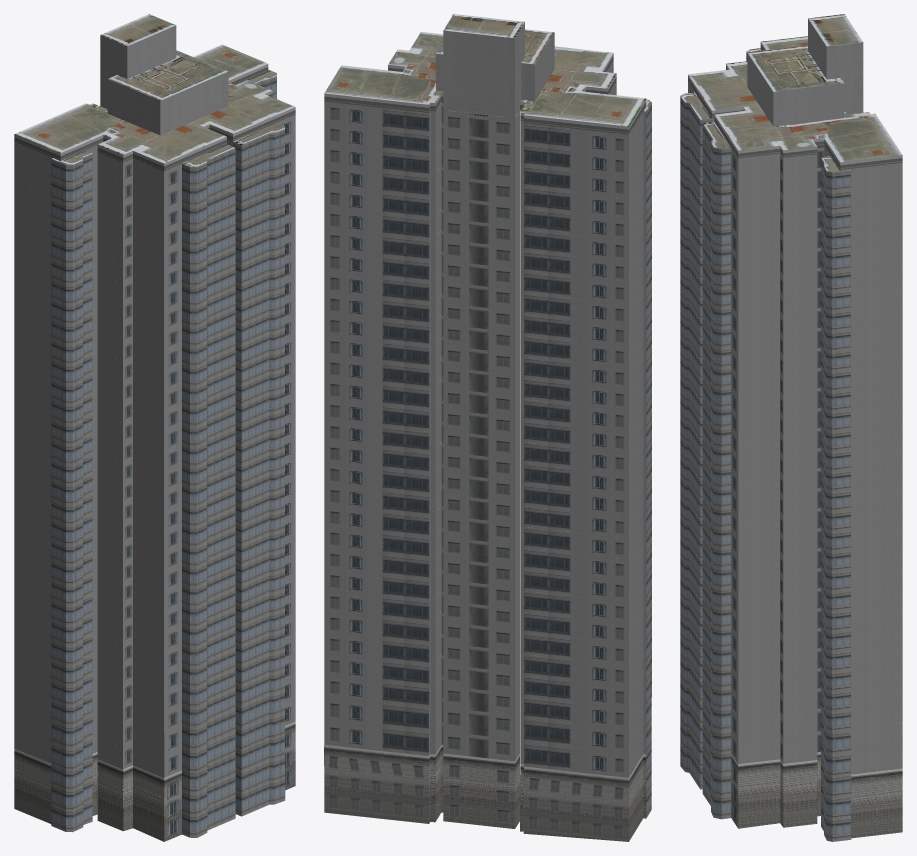
The picture shows the model from 3 angles, left to right: view 1: azimuth 30°, elevation 25°; view 2: azimuth 150°, elevation 25°; view 3: azimuth 270°, elevation 25°; orthographic projection. The views are drawn at different scales.
Parts seen in each view (by area): view 1: HPWLKZ_ruijinnanlu185nong2hao_louding, HPWLKZ_ruijinnanlu185nong2hao_1F_102, HPWLKZ_ruijinnanlu185nong2hao_4F_402, HPWLKZ_ruijinnanlu185nong2hao_5F_502, HPWLKZ_ruijinnanlu185nong2hao_3F_302, HPWLKZ_ruijinnanlu185nong2hao_2F_202, HPWLKZ_ruijinnanlu185nong2hao_16F_1602, HPWLKZ_ruijinnanlu185nong2hao_17F_1702, HPWLKZ_ruijinnanlu185nong2hao_18F_1802, HPWLKZ_ruijinnanlu185nong2hao_19F_1902, HPWLKZ_ruijinnanlu185nong2hao_6F_602, HPWLKZ_ruijinnanlu185nong2hao_25F_2502 (+88 smaller); view 2: HPWLKZ_ruijinnanlu185nong2hao_louding, HPWLKZ_ruijinnanlu185nong2hao_5F_501, HPWLKZ_ruijinnanlu185nong2hao_4F_401, HPWLKZ_ruijinnanlu185nong2hao_1F_101, HPWLKZ_ruijinnanlu185nong2hao_1F_103, HPWLKZ_ruijinnanlu185nong2hao_4F_403, HPWLKZ_ruijinnanlu185nong2hao_5F_503, HPWLKZ_ruijinnanlu185nong2hao_2F_201, HPWLKZ_ruijinnanlu185nong2hao_3F_301, HPWLKZ_ruijinnanlu185nong2hao_22F_2201, HPWLKZ_ruijinnanlu185nong2hao_9F_901, HPWLKZ_ruijinnanlu185nong2hao_29F_2901 (+88 smaller); view 3: HPWLKZ_ruijinnanlu185nong2hao_louding, HPWLKZ_ruijinnanlu185nong2hao_1F_104, HPWLKZ_ruijinnanlu185nong2hao_4F_404, HPWLKZ_ruijinnanlu185nong2hao_5F_504, HPWLKZ_ruijinnanlu185nong2hao_33F_3304, HPWLKZ_ruijinnanlu185nong2hao_2F_204, HPWLKZ_ruijinnanlu185nong2hao_3F_304, HPWLKZ_ruijinnanlu185nong2hao_12F_1204, HPWLKZ_ruijinnanlu185nong2hao_13F_1304, HPWLKZ_ruijinnanlu185nong2hao_11F_1104, HPWLKZ_ruijinnanlu185nong2hao_14F_1404, HPWLKZ_ruijinnanlu185nong2hao_17F_1704 (+88 smaller).
Part boxes in pixels (x1,y1,x2,y2): HPWLKZ_ruijinnanlu185nong2hao_louding: (14, 14, 295, 170); HPWLKZ_ruijinnanlu185nong2hao_1F_102: (97, 795, 235, 841); HPWLKZ_ruijinnanlu185nong2hao_4F_402: (97, 732, 235, 777); HPWLKZ_ruijinnanlu185nong2hao_5F_502: (97, 709, 235, 755); HPWLKZ_ruijinnanlu185nong2hao_3F_302: (97, 754, 235, 797); HPWLKZ_ruijinnanlu185nong2hao_2F_202: (97, 775, 235, 818); HPWLKZ_ruijinnanlu185nong2hao_16F_1602: (97, 488, 235, 531); HPWLKZ_ruijinnanlu185nong2hao_17F_1702: (97, 468, 235, 511); HPWLKZ_ruijinnanlu185nong2hao_18F_1802: (97, 448, 235, 491); HPWLKZ_ruijinnanlu185nong2hao_19F_1902: (97, 428, 235, 471); HPWLKZ_ruijinnanlu185nong2hao_6F_602: (97, 689, 235, 732); HPWLKZ_ruijinnanlu185nong2hao_25F_2502: (97, 308, 235, 351); HPWLKZ_ruijinnanlu185nong2hao_louding: (324, 14, 651, 134); HPWLKZ_ruijinnanlu185nong2hao_5F_501: (520, 698, 651, 753); HPWLKZ_ruijinnanlu185nong2hao_4F_401: (520, 722, 651, 777); HPWLKZ_ruijinnanlu185nong2hao_1F_101: (520, 789, 651, 841); HPWLKZ_ruijinnanlu185nong2hao_1F_103: (324, 787, 441, 823); HPWLKZ_ruijinnanlu185nong2hao_4F_403: (324, 720, 441, 755); HPWLKZ_ruijinnanlu185nong2hao_5F_503: (324, 696, 441, 731); HPWLKZ_ruijinnanlu185nong2hao_2F_201: (520, 768, 651, 820); HPWLKZ_ruijinnanlu185nong2hao_3F_301: (520, 746, 651, 799); HPWLKZ_ruijinnanlu185nong2hao_22F_2201: (520, 336, 651, 389); HPWLKZ_ruijinnanlu185nong2hao_9F_901: (520, 613, 651, 665); HPWLKZ_ruijinnanlu185nong2hao_29F_2901: (520, 188, 651, 240); HPWLKZ_ruijinnanlu185nong2hao_louding: (680, 14, 902, 172); HPWLKZ_ruijinnanlu185nong2hao_1F_104: (702, 770, 820, 828); HPWLKZ_ruijinnanlu185nong2hao_4F_404: (702, 707, 820, 763); HPWLKZ_ruijinnanlu185nong2hao_5F_504: (702, 684, 820, 741); HPWLKZ_ruijinnanlu185nong2hao_33F_3304: (702, 124, 824, 178); HPWLKZ_ruijinnanlu185nong2hao_2F_204: (702, 750, 820, 804); HPWLKZ_ruijinnanlu185nong2hao_3F_304: (702, 730, 820, 784); HPWLKZ_ruijinnanlu185nong2hao_12F_1204: (702, 544, 820, 598); HPWLKZ_ruijinnanlu185nong2hao_13F_1304: (702, 524, 820, 578); HPWLKZ_ruijinnanlu185nong2hao_11F_1104: (702, 564, 820, 618); HPWLKZ_ruijinnanlu185nong2hao_14F_1404: (702, 504, 820, 558); HPWLKZ_ruijinnanlu185nong2hao_17F_1704: (702, 444, 820, 498).
Size of the model in its own units: 39.54 by 105 by 28.54.
18 materials, 18 textured.
